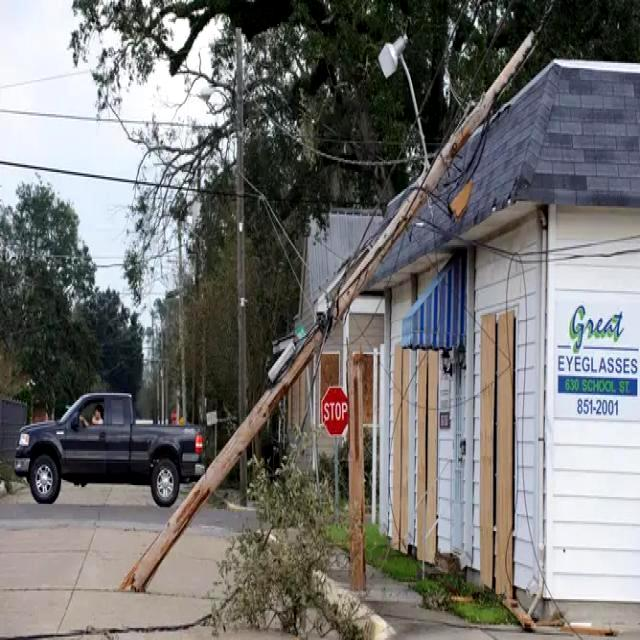Broken Pole: (109, 26, 535, 612)
